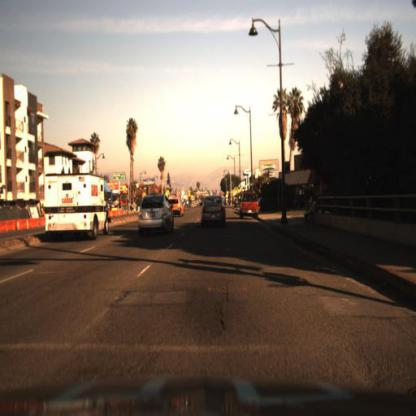car: (36, 163, 118, 244), (139, 196, 176, 237), (198, 194, 227, 230), (239, 194, 258, 222), (170, 194, 187, 223)
truck: (46, 171, 112, 241)
